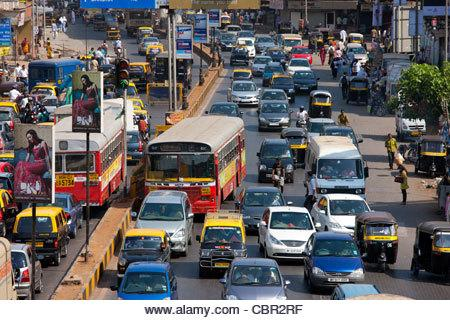Car: (136, 190, 193, 254), (304, 232, 364, 289), (196, 210, 246, 276), (117, 229, 170, 285), (258, 206, 315, 258), (220, 258, 289, 299), (111, 262, 177, 299), (311, 193, 370, 234), (235, 187, 291, 229), (36, 192, 82, 237), (36, 207, 68, 265), (257, 139, 293, 182), (11, 243, 32, 298), (258, 102, 291, 130), (320, 125, 362, 146), (0, 189, 18, 236), (227, 80, 259, 105), (330, 284, 379, 299), (270, 75, 294, 102), (307, 118, 335, 140), (293, 70, 318, 93), (129, 62, 150, 89), (0, 101, 20, 128), (262, 62, 284, 86), (343, 43, 368, 64), (205, 102, 242, 116), (133, 107, 150, 137), (259, 89, 287, 107), (127, 130, 143, 160), (138, 37, 161, 55), (251, 56, 271, 76), (236, 36, 255, 57), (290, 46, 311, 64), (287, 58, 310, 74), (230, 45, 248, 65), (0, 122, 13, 149), (30, 83, 59, 95), (255, 36, 275, 53), (265, 47, 285, 63), (231, 68, 252, 82), (219, 33, 236, 50), (136, 27, 153, 43), (237, 30, 255, 41), (0, 150, 13, 165), (126, 81, 138, 97), (127, 98, 144, 109), (224, 25, 241, 35), (98, 64, 114, 74), (0, 161, 13, 173), (210, 28, 220, 42), (272, 33, 281, 46), (240, 23, 253, 31)
bus: (145, 116, 245, 213), (89, 99, 123, 205), (28, 58, 85, 90)
